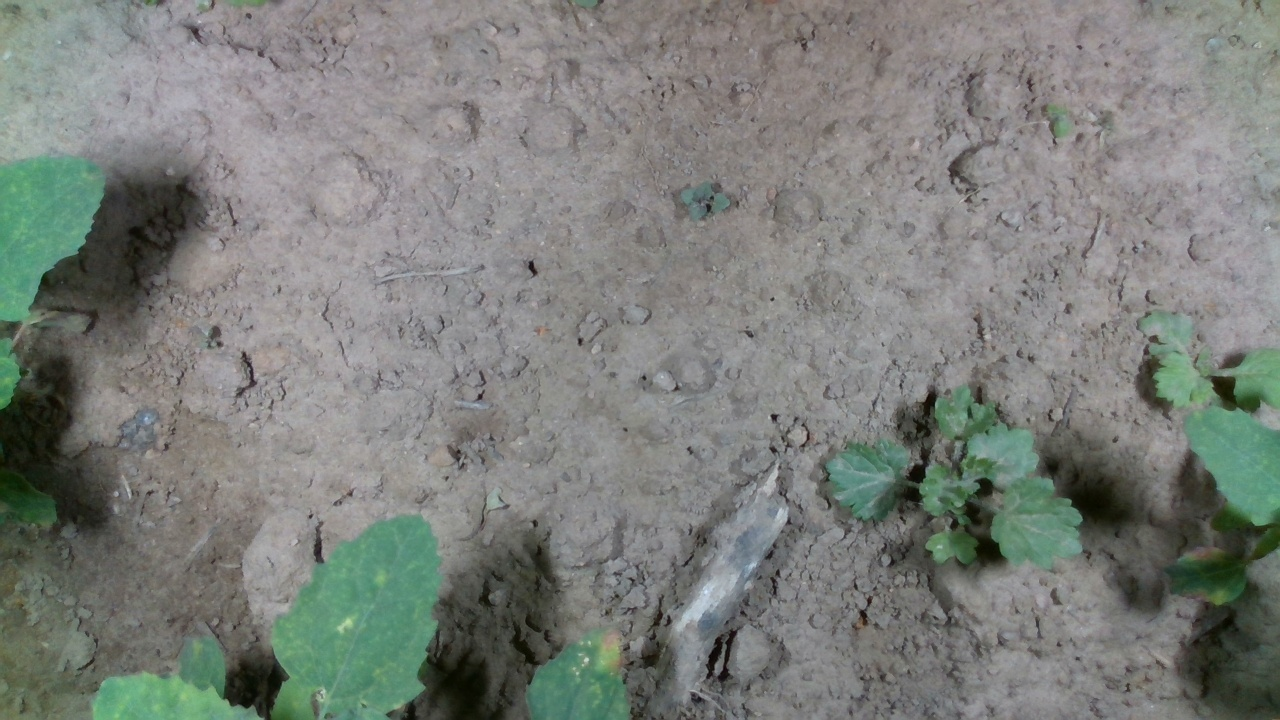weed: (678, 180, 729, 224), (1042, 98, 1075, 141)
